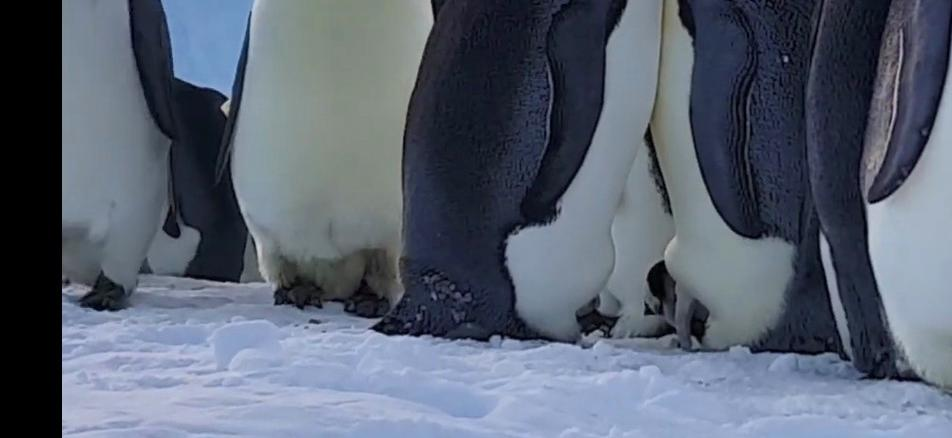Emperor Penguin: (394, 0, 676, 326), (613, 0, 843, 323), (222, 0, 443, 311), (858, 0, 952, 189)
